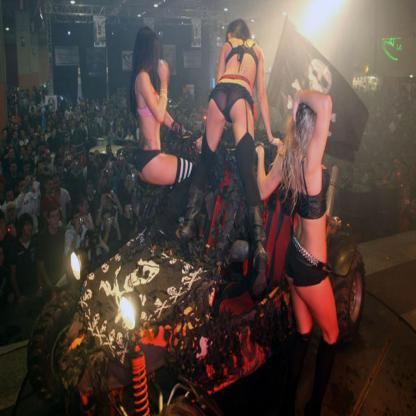face: (51, 212, 60, 229), (75, 213, 83, 230), (25, 221, 33, 236), (106, 194, 113, 211), (105, 214, 112, 230), (126, 205, 134, 219), (84, 199, 90, 215), (8, 207, 16, 219), (7, 192, 15, 202), (48, 181, 54, 194), (20, 181, 26, 194), (38, 164, 45, 175), (88, 185, 94, 197), (127, 177, 133, 189), (54, 179, 60, 190), (81, 157, 87, 168), (118, 156, 124, 167), (1, 220, 6, 233), (95, 154, 100, 167), (1, 250, 5, 266), (58, 167, 64, 177), (12, 165, 18, 175), (109, 167, 114, 178), (65, 152, 71, 161), (75, 161, 80, 171), (26, 165, 31, 174), (10, 150, 15, 159), (44, 161, 48, 171), (22, 149, 27, 157), (28, 145, 33, 153), (90, 156, 94, 165), (107, 148, 112, 155), (129, 145, 133, 152), (5, 132, 9, 139), (15, 126, 19, 133), (14, 133, 18, 140), (72, 122, 75, 131), (42, 137, 45, 145), (81, 122, 84, 130), (12, 125, 15, 132), (22, 131, 25, 138), (54, 130, 57, 137), (38, 127, 42, 132), (13, 117, 16, 123), (32, 129, 35, 135), (32, 141, 35, 147), (64, 126, 67, 132), (40, 146, 43, 152), (48, 128, 51, 133)
